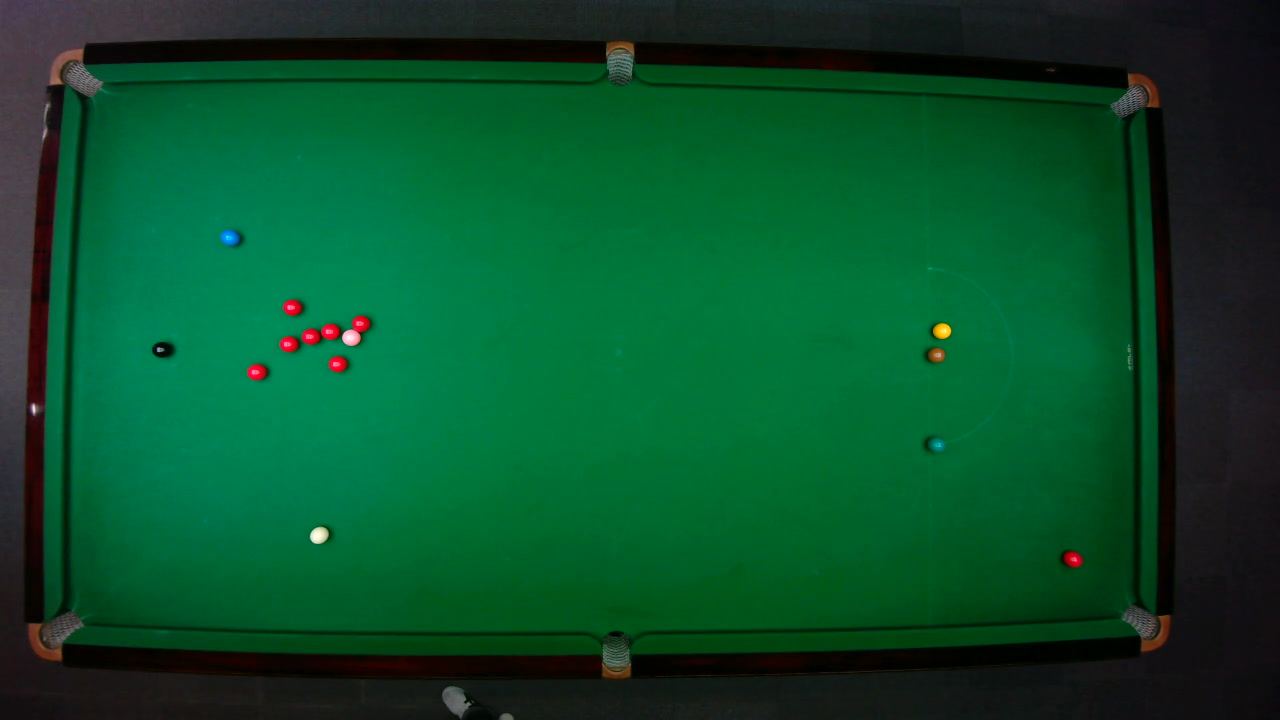bag: (26, 609, 84, 661), (47, 47, 103, 97), (1118, 602, 1170, 651), (1108, 72, 1160, 119), (601, 629, 630, 679), (605, 39, 633, 86)
black: (150, 340, 172, 358)
blue: (219, 228, 240, 246)
brown: (925, 346, 945, 362)
green: (925, 435, 945, 452)
pink: (340, 328, 361, 346)
red: (1060, 549, 1084, 568), (245, 362, 267, 381), (280, 298, 303, 316), (327, 354, 348, 373), (277, 334, 299, 352), (299, 327, 321, 345), (350, 314, 370, 332), (319, 322, 340, 339)
white: (308, 524, 329, 544)
yellow: (931, 321, 952, 339)
zone: (926, 266, 1013, 445)
